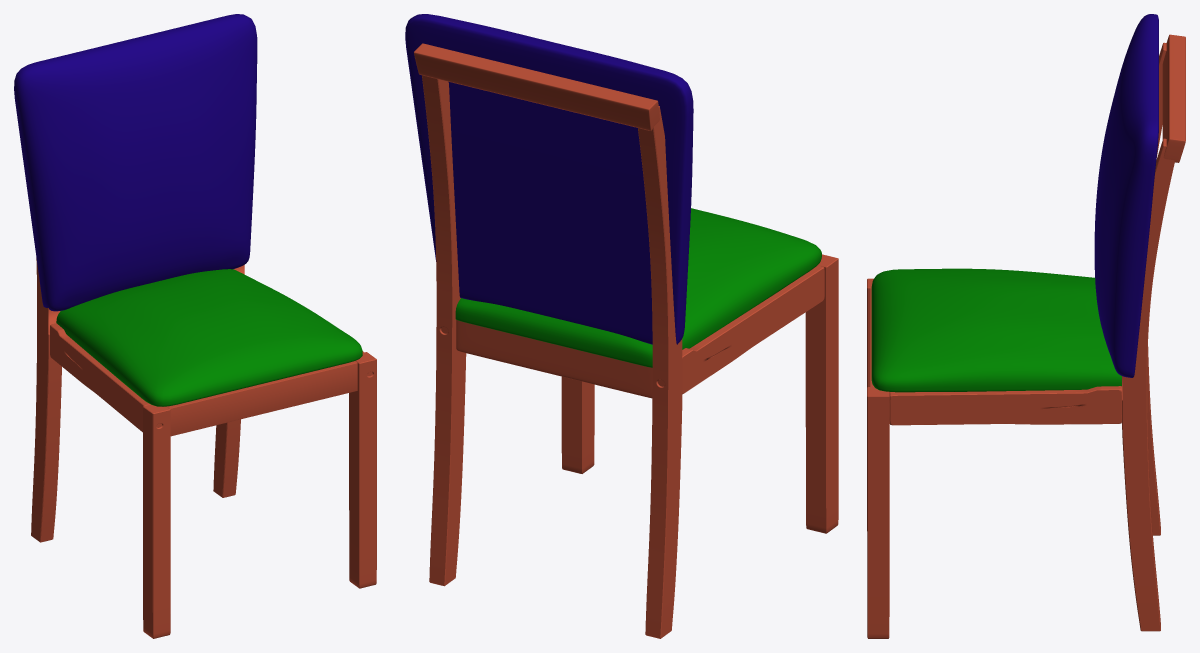
The model's file is stul.FBX.
The picture shows the model from 3 angles, left to right: view 1: azimuth 30°, elevation 25°; view 2: azimuth 150°, elevation 25°; view 3: azimuth 270°, elevation 25°; orthographic projection. The views are drawn at different scales.
Visible parts, largest first — view 1: Seat Nika 005, Frame Nika 4, Seat Nika 4; view 2: Frame Nika 4, Seat Nika 005, Seat Nika 4; view 3: Seat Nika 4, Frame Nika 4, Seat Nika 005.
Boxes of the visible parts, x1,y1,x2,y2 form: Seat Nika 005: [14, 14, 257, 311]; Frame Nika 4: [31, 258, 376, 638]; Seat Nika 4: [56, 269, 362, 406]; Frame Nika 4: [414, 43, 838, 638]; Seat Nika 005: [405, 14, 693, 344]; Seat Nika 4: [455, 208, 821, 367]; Seat Nika 4: [871, 268, 1121, 392]; Frame Nika 4: [867, 34, 1185, 638]; Seat Nika 005: [1094, 14, 1158, 377].
Size of the model in its own units: 423 by 804 by 454.
